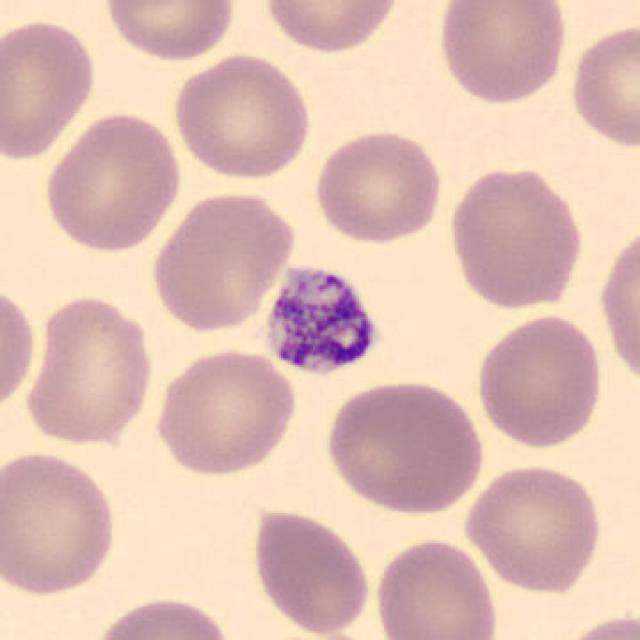Platelets: (260, 255, 388, 382)
RBC: (320, 376, 489, 516), (148, 187, 298, 335), (20, 291, 158, 448), (444, 162, 588, 312), (41, 109, 185, 254), (151, 344, 301, 479), (461, 460, 606, 596), (169, 50, 315, 182), (471, 310, 606, 452), (0, 446, 121, 600), (247, 504, 375, 636), (309, 125, 446, 247), (0, 14, 100, 162), (432, 0, 571, 106), (370, 534, 503, 640), (566, 20, 638, 152), (99, 0, 240, 63), (259, 0, 403, 56), (594, 217, 638, 393), (87, 592, 237, 640), (0, 278, 39, 418), (551, 610, 640, 640)
